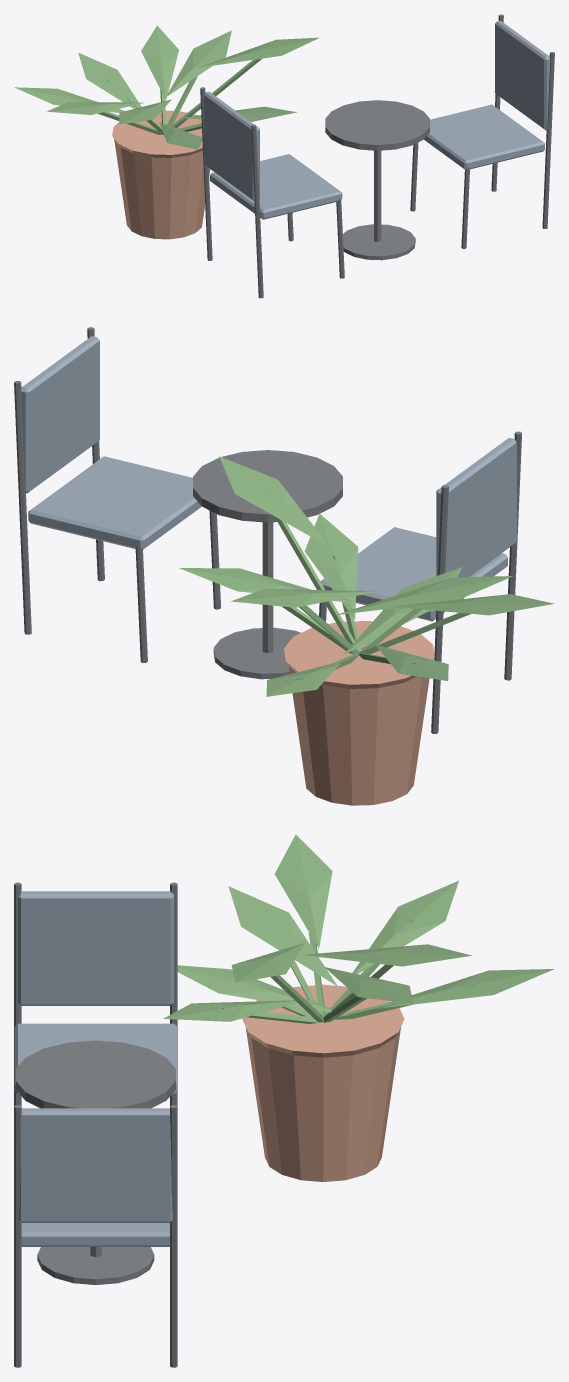
File: balc_l.glb
The picture shows the model from 3 angles, top to bottom: view 1: azimuth 30°, elevation 25°; view 2: azimuth 150°, elevation 25°; view 3: azimuth 270°, elevation 25°; orthographic projection. The views are drawn at different scales.
Visible parts, largest first — view 1: balc_l_fabric2, balc_l_steel_d, balc_l_plant, balc_l_pot; view 2: balc_l_fabric2, balc_l_plant, balc_l_pot, balc_l_steel_d; view 3: balc_l_fabric2, balc_l_plant, balc_l_pot, balc_l_steel_d.
Part boxes in pixels (x1=…): balc_l_fabric2: x1=204, y1=20, x2=550, y2=219; balc_l_steel_d: x1=200, y1=14, x2=554, y2=298; balc_l_plant: x1=14, y1=25, x2=319, y2=149; balc_l_pot: x1=112, y1=110, x2=210, y2=239; balc_l_fabric2: x1=20, y1=336, x2=516, y2=621; balc_l_plant: x1=179, y1=456, x2=554, y2=696; balc_l_pot: x1=284, y1=621, x2=434, y2=805; balc_l_steel_d: x1=14, y1=327, x2=521, y2=733; balc_l_fabric2: x1=14, y1=891, x2=176, y2=1246; balc_l_plant: x1=163, y1=834, x2=554, y2=1023; balc_l_pot: x1=242, y1=984, x2=404, y2=1181; balc_l_steel_d: x1=14, y1=882, x2=177, y2=1367.
Size of the model in its own units: 2.26 by 0.9127 by 1.66.
